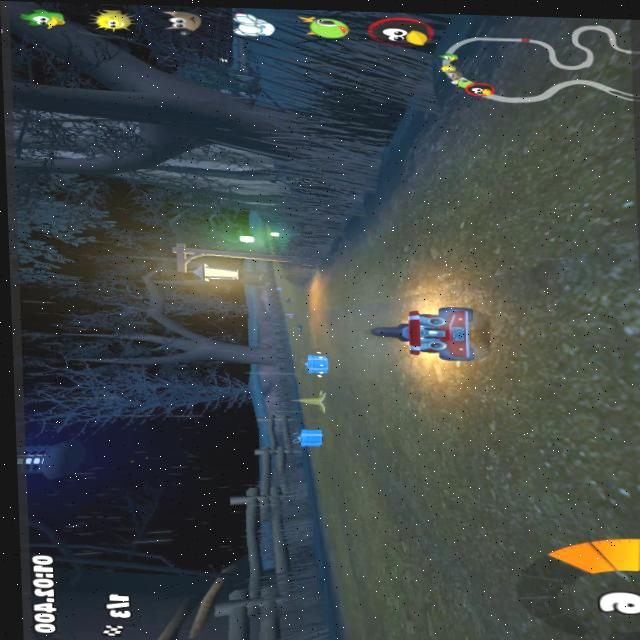bonus: (292, 426, 330, 447), (301, 356, 330, 376)
obstacle: (284, 387, 334, 412)
player_kart: (365, 304, 485, 364)
track: (457, 107, 640, 542), (334, 362, 473, 640), (384, 169, 471, 307), (297, 279, 370, 357), (329, 235, 380, 279), (270, 290, 297, 321), (268, 266, 294, 287), (280, 328, 299, 356)
